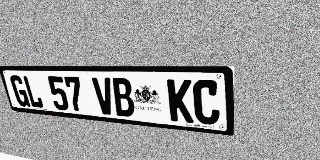5: (47, 76, 70, 111)
7: (63, 77, 86, 113)
B: (111, 78, 136, 117)
C: (192, 80, 220, 126)
G: (9, 75, 31, 107)
K: (167, 79, 194, 123)
L: (22, 76, 44, 109)
V: (91, 77, 116, 115)
